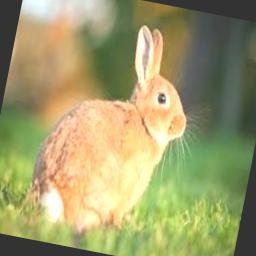rabbit: (31, 25, 186, 233)
